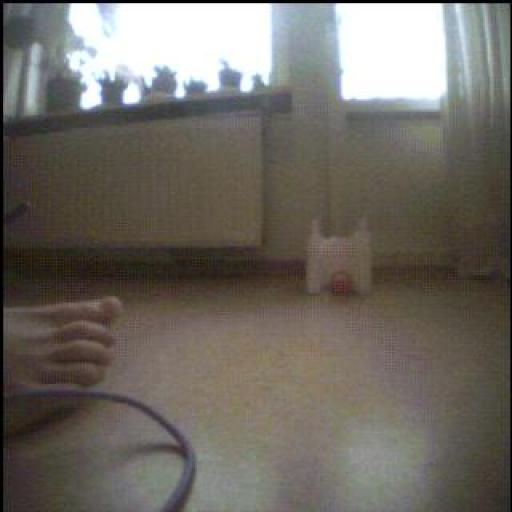Basket: (332, 273, 355, 295)
